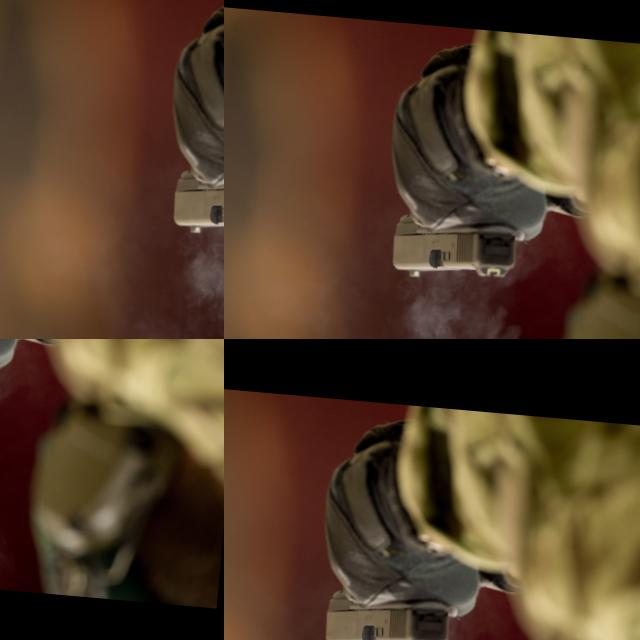handgun: (246, 89, 418, 339), (413, 104, 554, 339), (586, 118, 640, 339), (319, 584, 454, 640), (119, 339, 224, 388), (22, 227, 112, 272)
